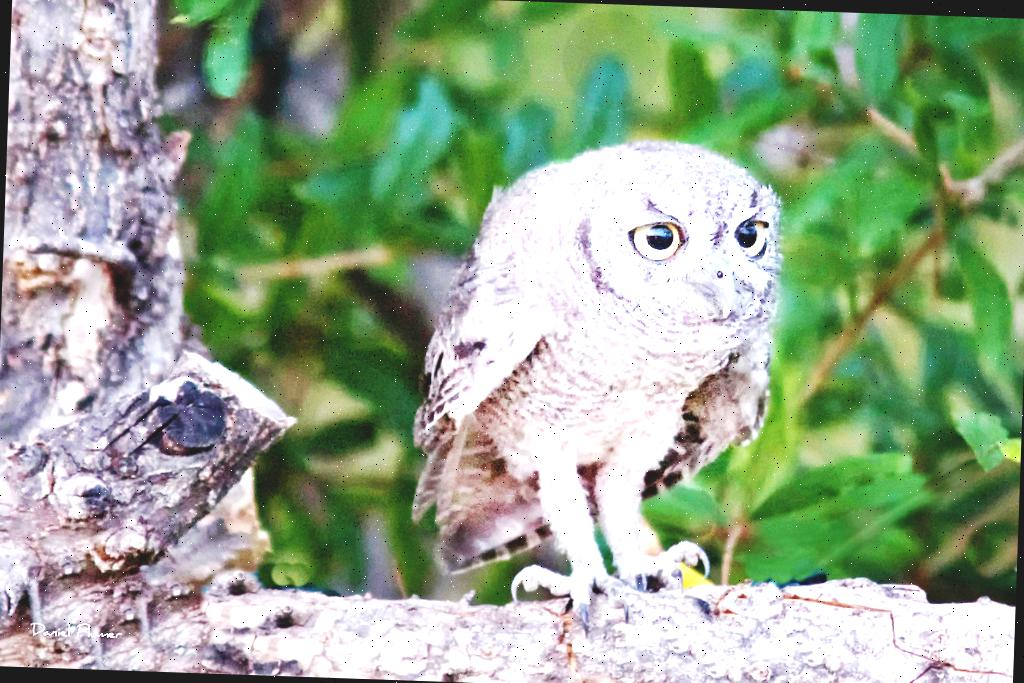Owl: (406, 130, 780, 644)
